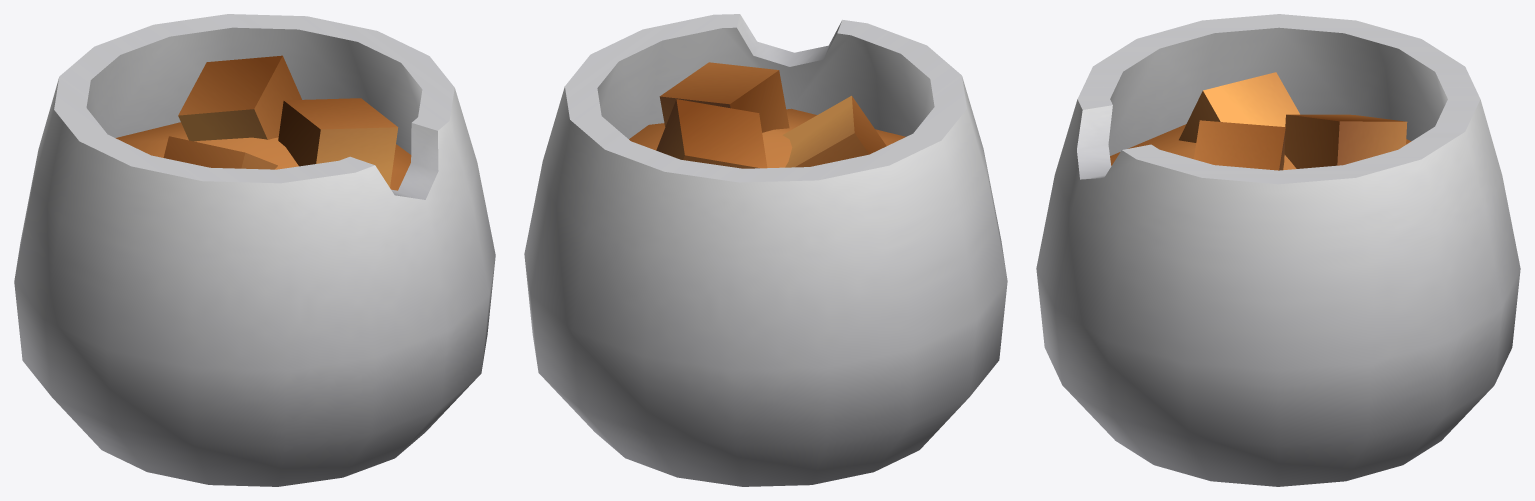
File: m_SugarContainer01_BrownSugar02.fbx
3 renders of one model, left to right at view 1: azimuth 30°, elevation 25°; view 2: azimuth 150°, elevation 25°; view 3: azimuth 270°, elevation 25°, orthographic.
Visible parts, largest first — view 1: m_SugarContainer01_BrownSugar02; view 2: m_SugarContainer01_BrownSugar02; view 3: m_SugarContainer01_BrownSugar02.
Boxes of the visible parts, x1,y1,x2,y2 form: m_SugarContainer01_BrownSugar02: (14, 14, 495, 486); m_SugarContainer01_BrownSugar02: (524, 14, 1007, 486); m_SugarContainer01_BrownSugar02: (1036, 14, 1520, 486).
Size of the model in its own units: 11.21 by 8.16 by 11.21.
